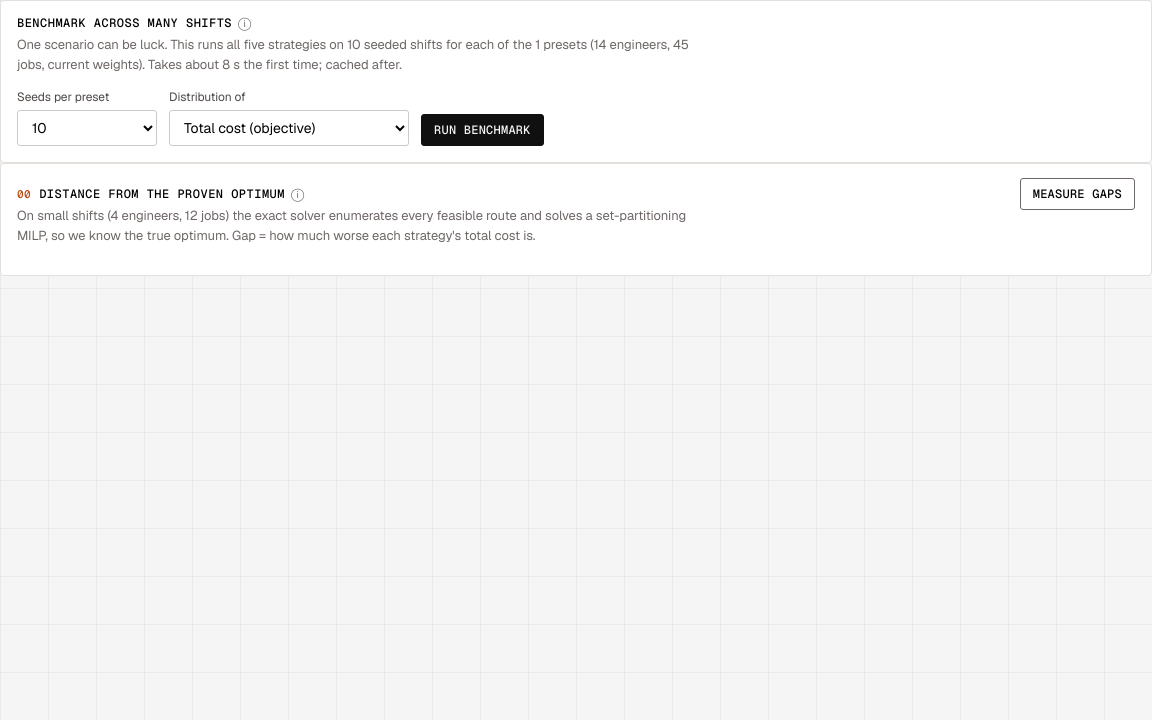
Test: Benchmark verdicts › says every other strategy is significantly costlier only when that is so
Click the button "Run benchmark". click: (482, 130)
box: [421,114,544,146]
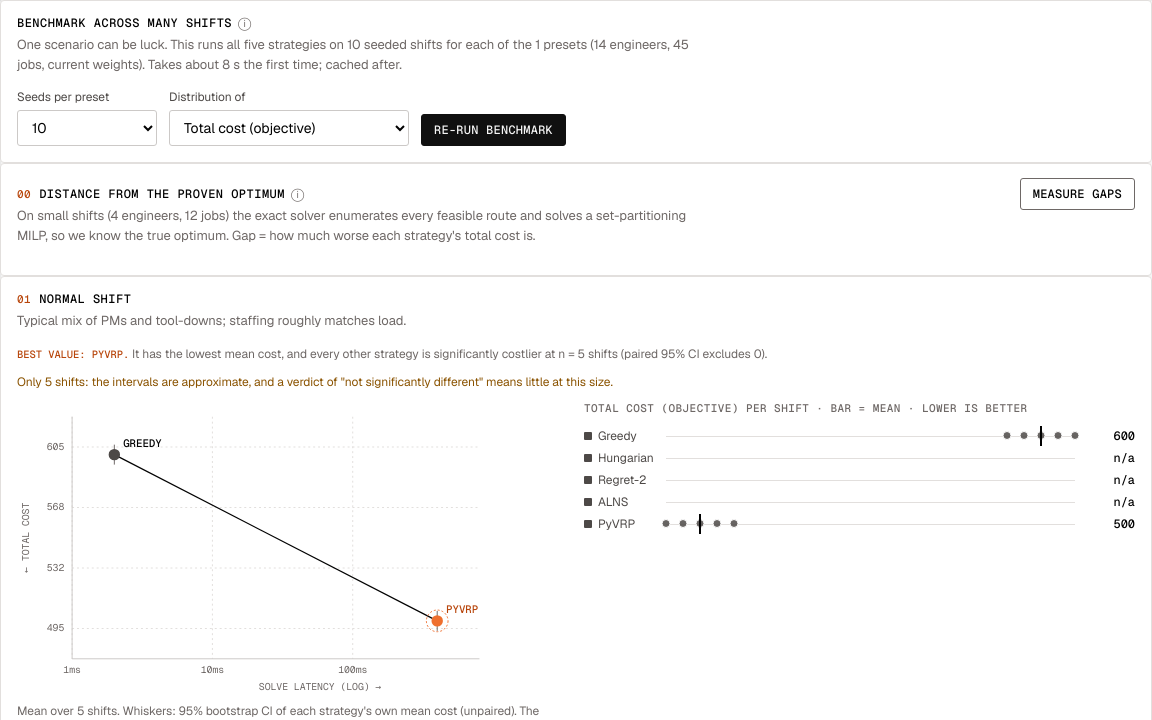
Expected: the text "Best value:" shows "every other strategy is significantly costlier at n = 5 shifts", [132,346,767,362]
